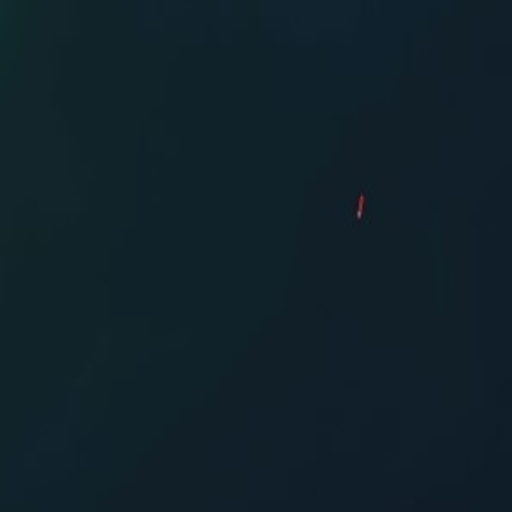ship: (353, 191, 367, 224)
